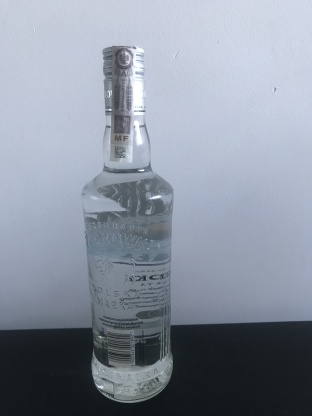nakretka: (99, 41, 148, 121)
